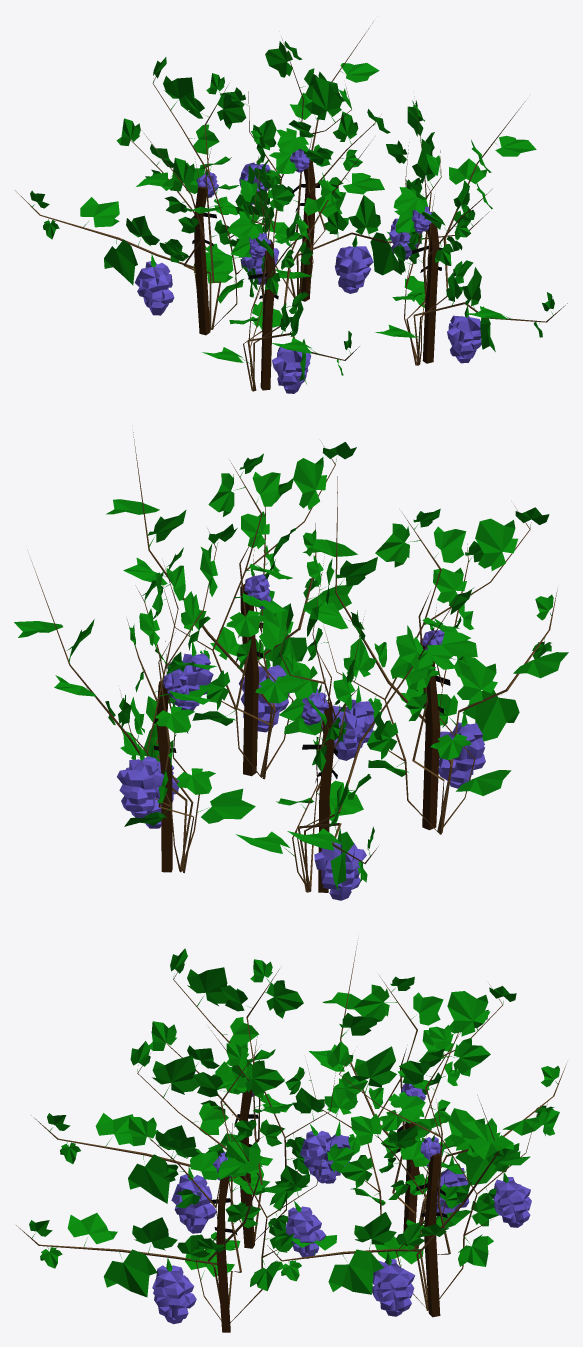
Rendered from grape.glb.
3 renders of one model, top to bottom at view 1: azimuth 30°, elevation 25°; view 2: azimuth 150°, elevation 25°; view 3: azimuth 270°, elevation 25°, orthographic. The views are drawn at different scales.
Parts seen in each view (by area): view 1: grape_3; view 2: grape_3; view 3: grape_3.
Part boxes in pixels (bbox=[...]): grape_3: bbox=[15, 21, 567, 393]; grape_3: bbox=[14, 432, 568, 900]; grape_3: bbox=[16, 938, 566, 1332].
Bounding box in the file's own units: 3.46 × 2.41 × 4.15.
